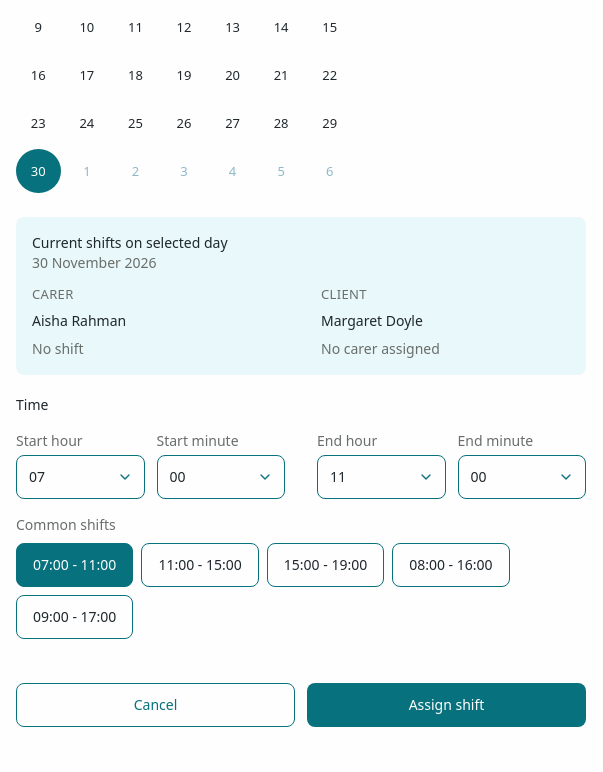
Test case: [ADM-07][AC-01] Assign shift creates the shift through the server › [ADM-07][AC-01] a thrown action is a failed assignment, not a crash
(page scrolled)
Step 1. Click the button "Assign shift" → (446, 705), box [307,683,586,727]
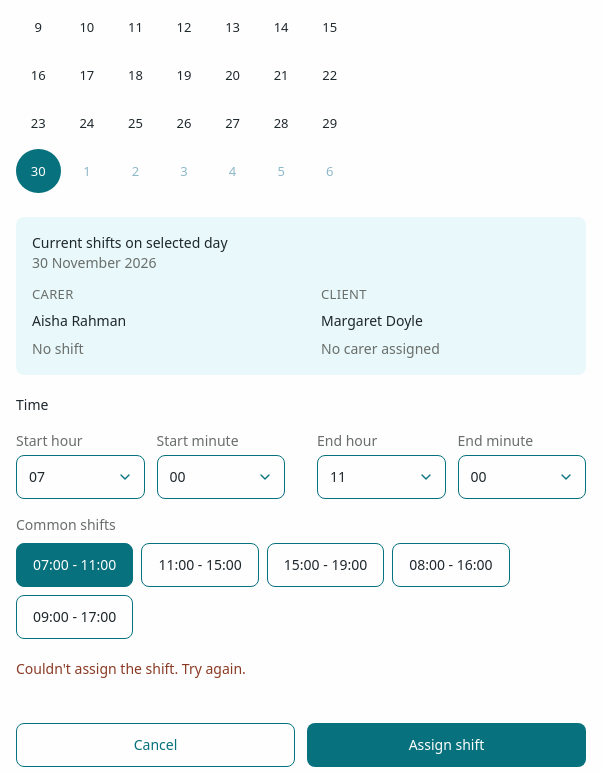
Check: the button "Assign shift" is enabled, box [307,723,586,767]
Check: the text "Couldn't assign the shift. Try again." is shown, box [16,659,246,678]
